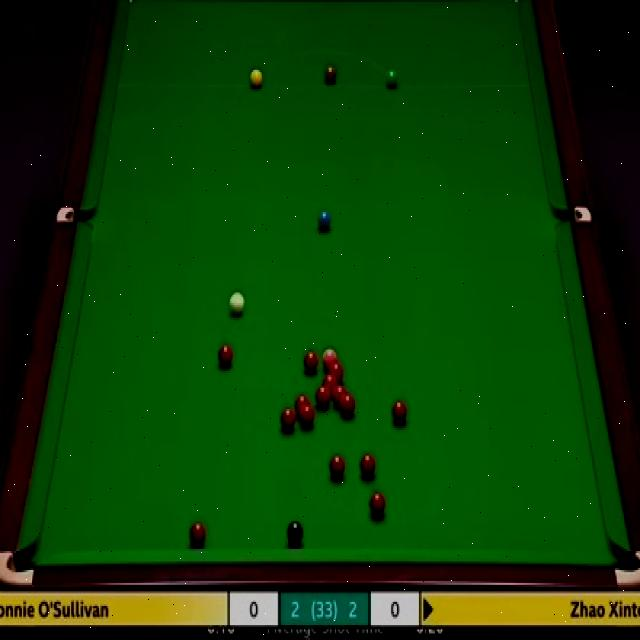black-ball: (285, 517, 304, 543)
blue-ball: (317, 210, 332, 228)
brown-ball: (324, 65, 336, 84)
green-ball: (384, 66, 400, 90)
pink-ball: (318, 350, 336, 364)
red-ball: (391, 396, 407, 424), (186, 514, 202, 542), (216, 343, 233, 368), (330, 457, 346, 482), (314, 385, 330, 409), (300, 402, 316, 426), (369, 490, 383, 517), (339, 393, 355, 415), (359, 452, 374, 475), (281, 410, 296, 430), (321, 373, 336, 392), (328, 362, 343, 381), (332, 382, 346, 402), (305, 350, 317, 372)
white-ball: (228, 292, 246, 319)
yellow-ball: (250, 68, 263, 89)
